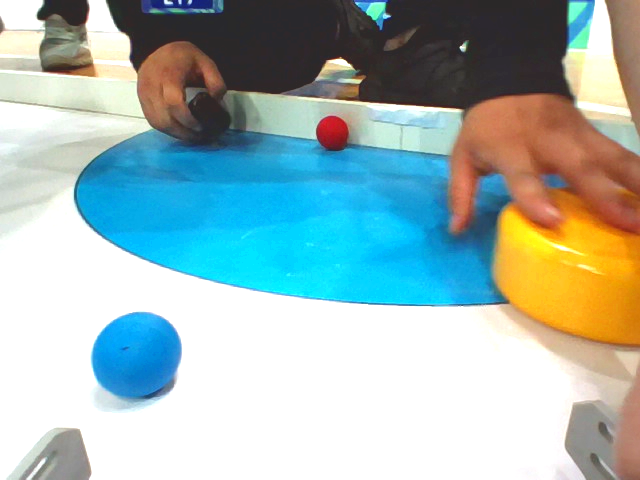black: (156, 91, 255, 162)
blue: (85, 303, 204, 412)
red: (306, 114, 368, 168)
yellow: (487, 173, 640, 360)
